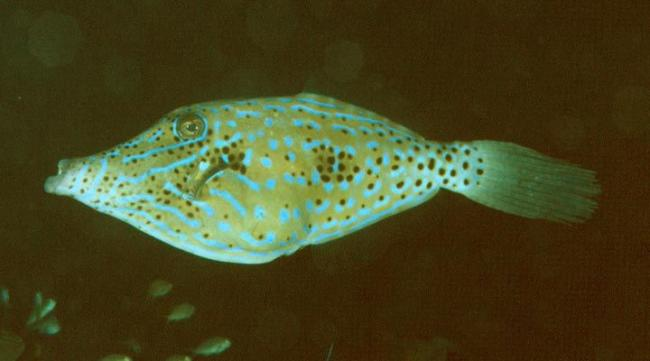fish: (45, 92, 605, 266)
